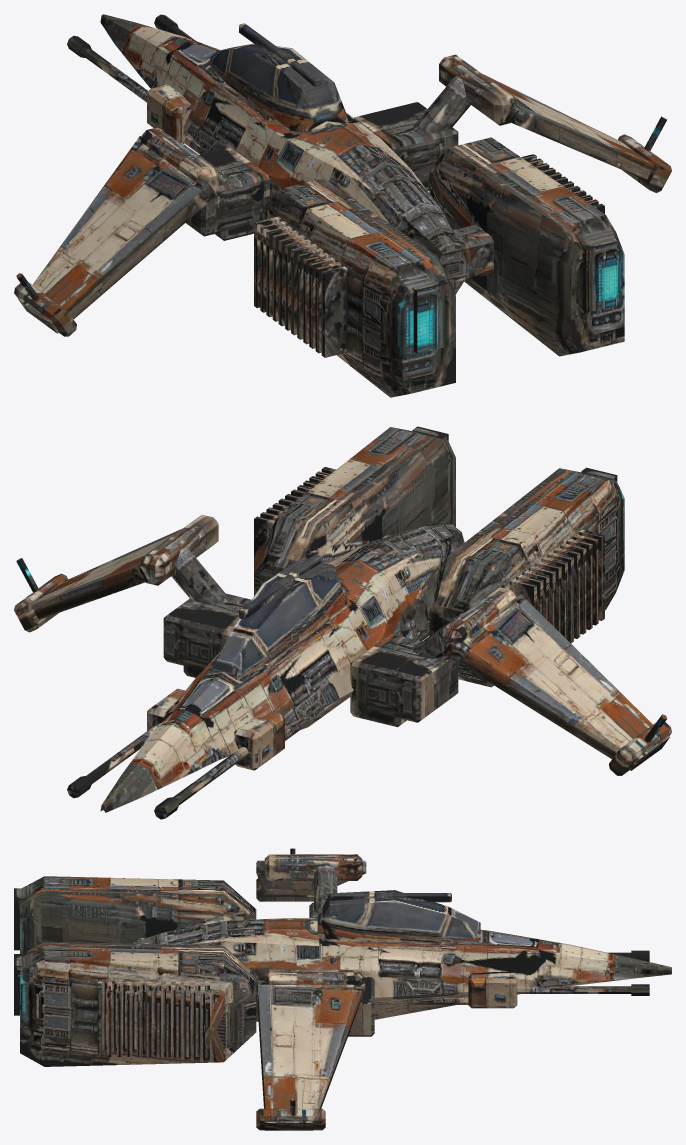
The model's file is scrapper-e.glb.
3 renders of one model, top to bottom at view 1: azimuth 30°, elevation 25°; view 2: azimuth 150°, elevation 25°; view 3: azimuth 270°, elevation 25°, orthographic. The views are drawn at different scales.
Parts seen in each view (by area): view 1: hero_scrapper_engines_e, hero_scrapper_hull_e, hero_scrapper_wings_e, hero_scrapper_cockpit_e; view 2: hero_scrapper_hull_e, hero_scrapper_engines_e, hero_scrapper_wings_e, hero_scrapper_cockpit_e; view 3: hero_scrapper_engines_e, hero_scrapper_hull_e, hero_scrapper_wings_e, hero_scrapper_cockpit_e.
Boxes of the visible parts, x1=… form: hero_scrapper_engines_e: x1=254, y1=137, x2=624, y2=397; hero_scrapper_hull_e: x1=67, y1=14, x2=469, y2=294; hero_scrapper_wings_e: x1=14, y1=54, x2=671, y2=336; hero_scrapper_cockpit_e: x1=210, y1=23, x2=348, y2=132; hero_scrapper_hull_e: x1=67, y1=524, x2=464, y2=819; hero_scrapper_engines_e: x1=254, y1=426, x2=624, y2=687; hero_scrapper_wings_e: x1=14, y1=514, x2=671, y2=775; hero_scrapper_cockpit_e: x1=210, y1=554, x2=347, y2=679; hero_scrapper_engines_e: x1=14, y1=876, x2=256, y2=1066; hero_scrapper_hull_e: x1=130, y1=910, x2=671, y2=1021; hero_scrapper_wings_e: x1=256, y1=848, x2=374, y2=1130; hero_scrapper_cockpit_e: x1=317, y1=890, x2=480, y2=942.
Bounding box in the file's own units: 1.46 × 0.355 × 1.62.
Materials: 1 (1 with a texture image).
